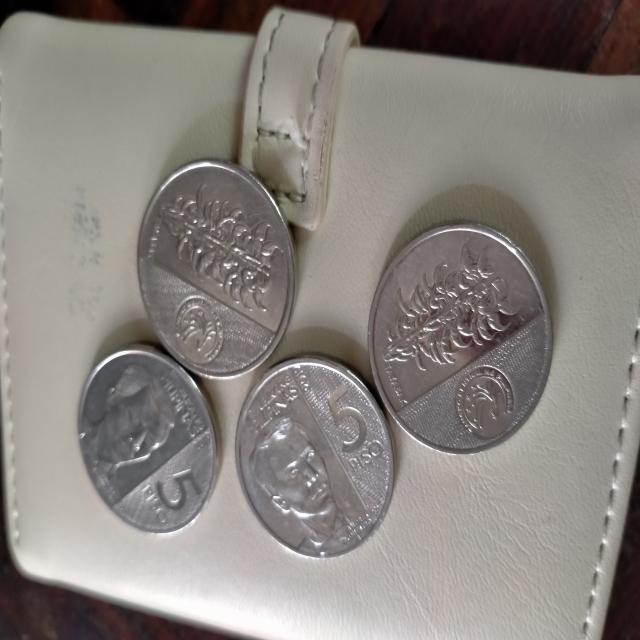5_New_Back: (373, 250, 511, 372), (151, 177, 279, 308)
5_New_Front: (322, 371, 387, 481), (134, 449, 216, 535)
